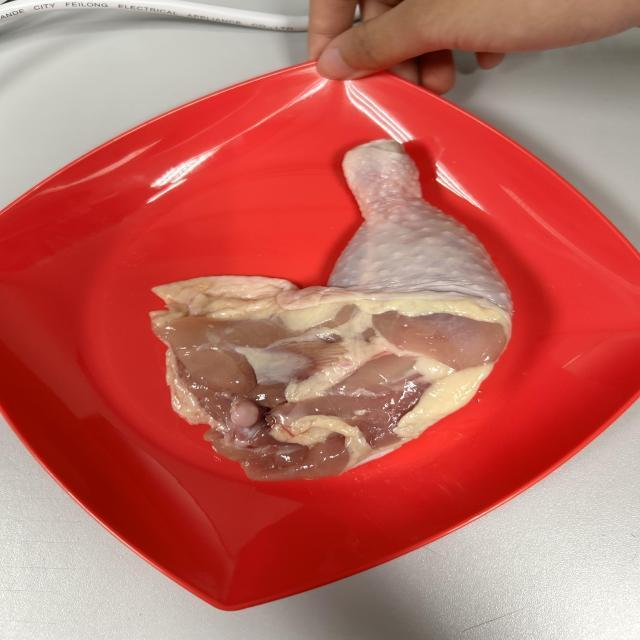quater: (168, 138, 510, 476)
